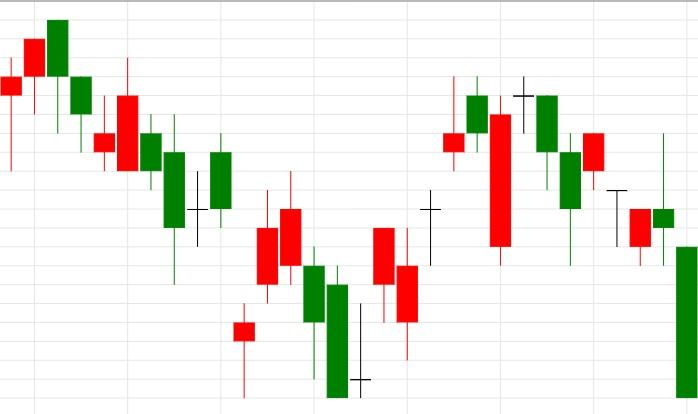evening_star_fall: (396, 76, 558, 362)
